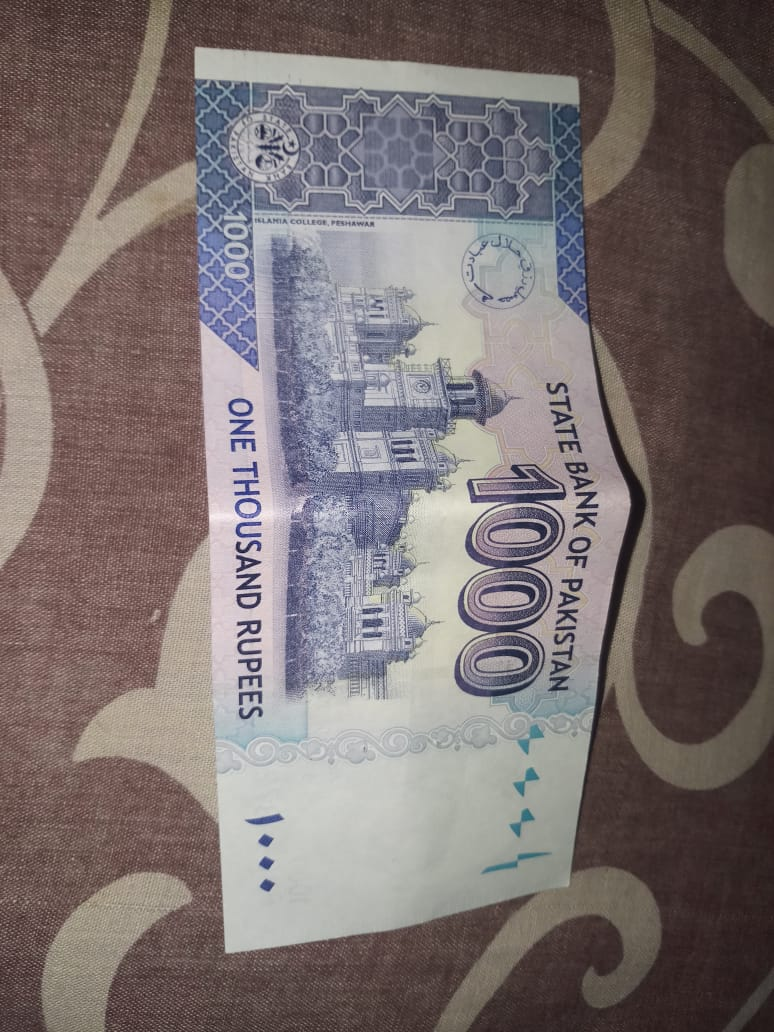1000 rupee: (143, 29, 600, 951)
